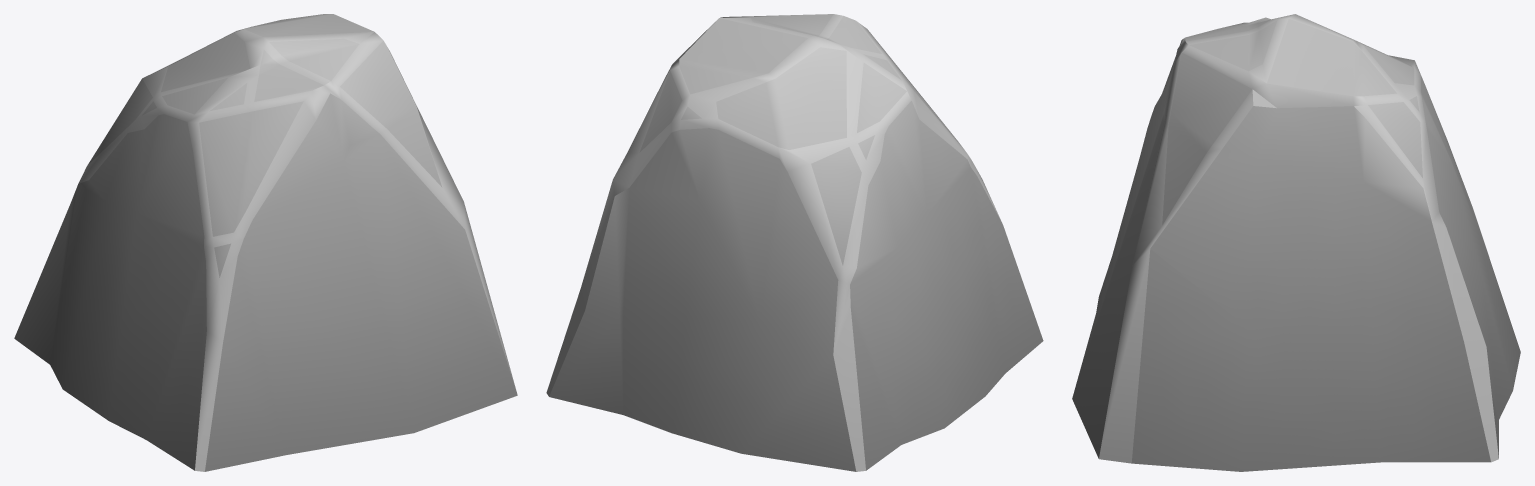
File: Stone.fbx
3 renders of one model, left to right at view 1: azimuth 30°, elevation 25°; view 2: azimuth 150°, elevation 25°; view 3: azimuth 270°, elevation 25°, orthographic. The views are drawn at different scales.
Parts seen in each view (by area): view 1: Stone; view 2: Stone; view 3: Stone.
Part boxes in pixels (x1,y1,x2,y2): Stone: (14,14,517,471); Stone: (546,14,1043,471); Stone: (1072,14,1520,471).
Bounding box in the file's own units: 106 × 94.36 × 108.
